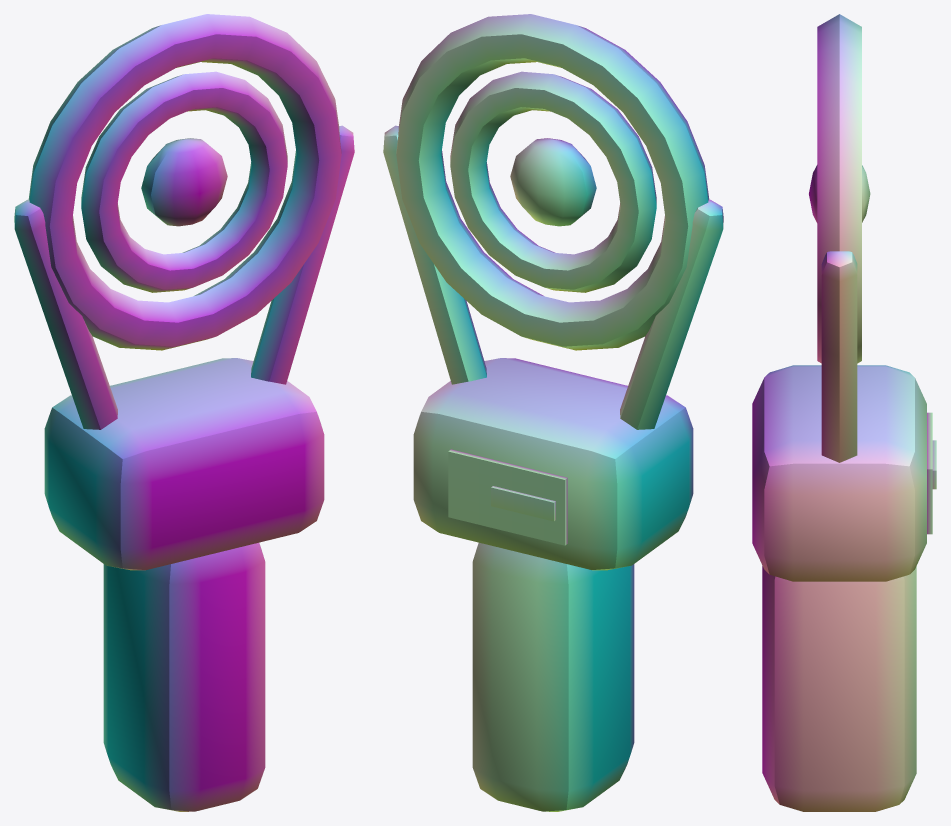
Rendered from gad_warp.glb.
3 views of the same model, side by side, from view 1: azimuth 30°, elevation 25°; view 2: azimuth 150°, elevation 25°; view 3: azimuth 270°, elevation 25° (orthographic).
Visible parts, largest first — view 1: warp; view 2: warp; view 3: warp.
Part boxes in pixels (x1,y1,x2,y2): warp: (14,14,354,811); warp: (383,14,723,811); warp: (752,14,936,811).
Size of the model in its own units: 0.0756 by 0.1646 by 0.0359.
